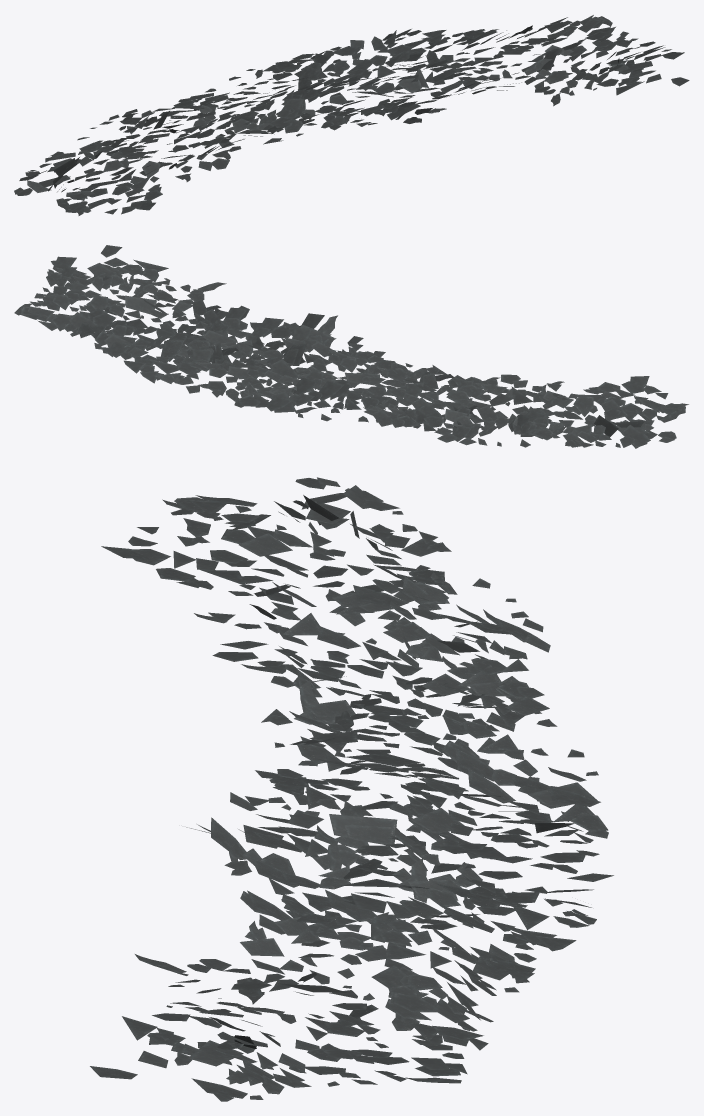
File: Ice_Stacks_004.fbx
3 views of the same model, one above another, from view 1: azimuth 30°, elevation 25°; view 2: azimuth 150°, elevation 25°; view 3: azimuth 270°, elevation 25° (orthographic). The views are drawn at different scales.
Parts seen in each view (by area): view 1: Ice_Stacks_004_LOD0; view 2: Ice_Stacks_004_LOD0; view 3: Ice_Stacks_004_LOD0.
Part boxes in pixels (<box>): Ice_Stacks_004_LOD0: <box>14,15,689,215</box>; Ice_Stacks_004_LOD0: <box>14,245,688,448</box>; Ice_Stacks_004_LOD0: <box>90,477,613,1101</box>.
Size of what is drawn, in the model's own units: 85.78 by 2.44 by 30.22.
